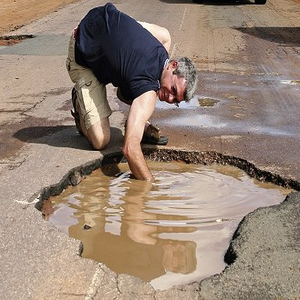pothole: (33, 143, 300, 292)
